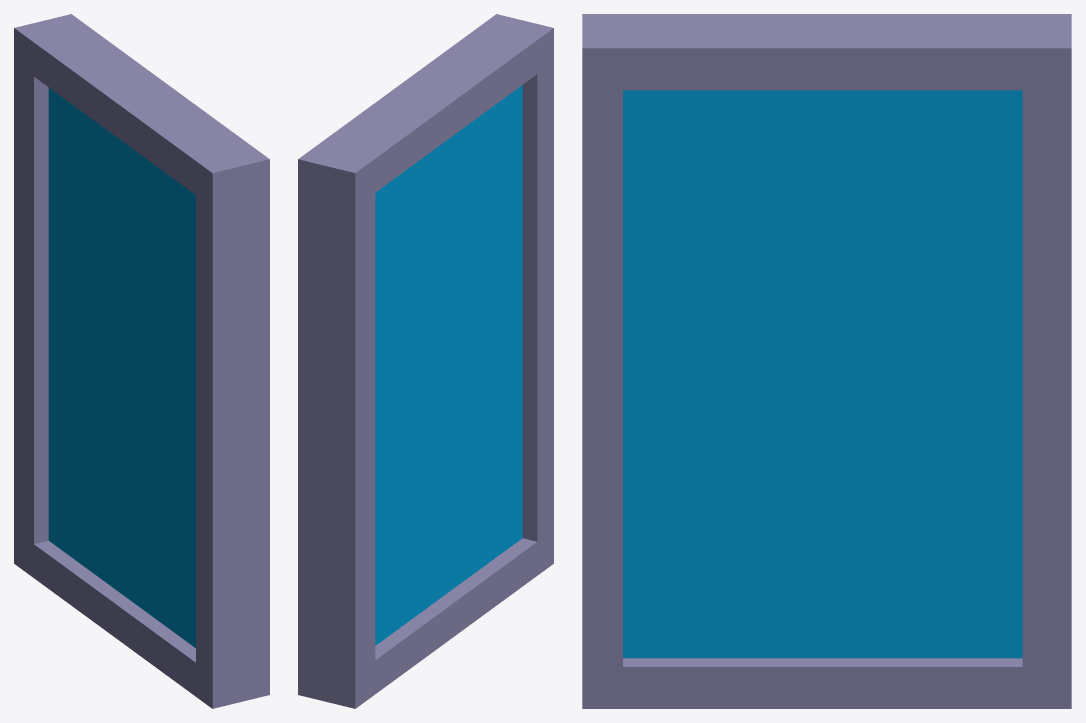
The model's file is GlassDoor.fbx.
3 views of the same model, side by side, from view 1: azimuth 30°, elevation 25°; view 2: azimuth 150°, elevation 25°; view 3: azimuth 270°, elevation 25° (orthographic). The views are drawn at different scales.
Visible parts, largest first — view 1: Door.003; view 2: Door.003; view 3: Door.003.
Boxes of the visible parts, x1,y1,x2,y2 form: Door.003: (14,14,269,708); Door.003: (298,14,553,708); Door.003: (582,14,1071,708).
Size of the model in its own units: 48 by 429 by 288.
